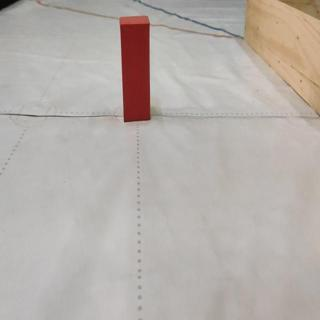redbox: (119, 15, 150, 124)
